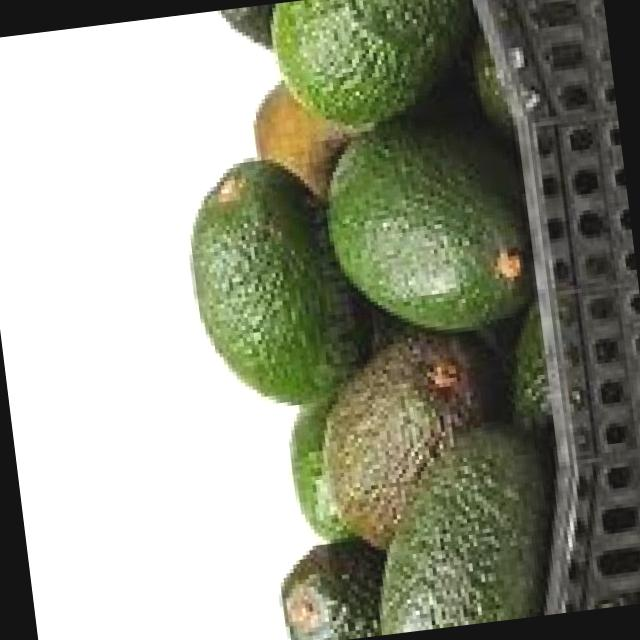avocado: (311, 114, 528, 357), (168, 148, 362, 414), (290, 324, 487, 560), (354, 424, 544, 636)
